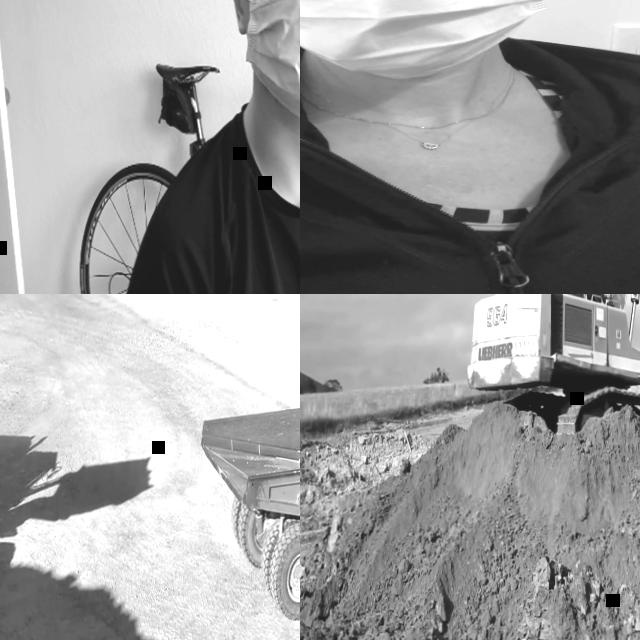Mask: (300, 0, 555, 78), (240, 0, 300, 122)
NO-Safety Vest: (300, 64, 640, 294), (176, 117, 300, 294)
Person: (300, 0, 640, 294), (107, 0, 300, 294)
machinery: (194, 363, 300, 628), (464, 294, 640, 442)
